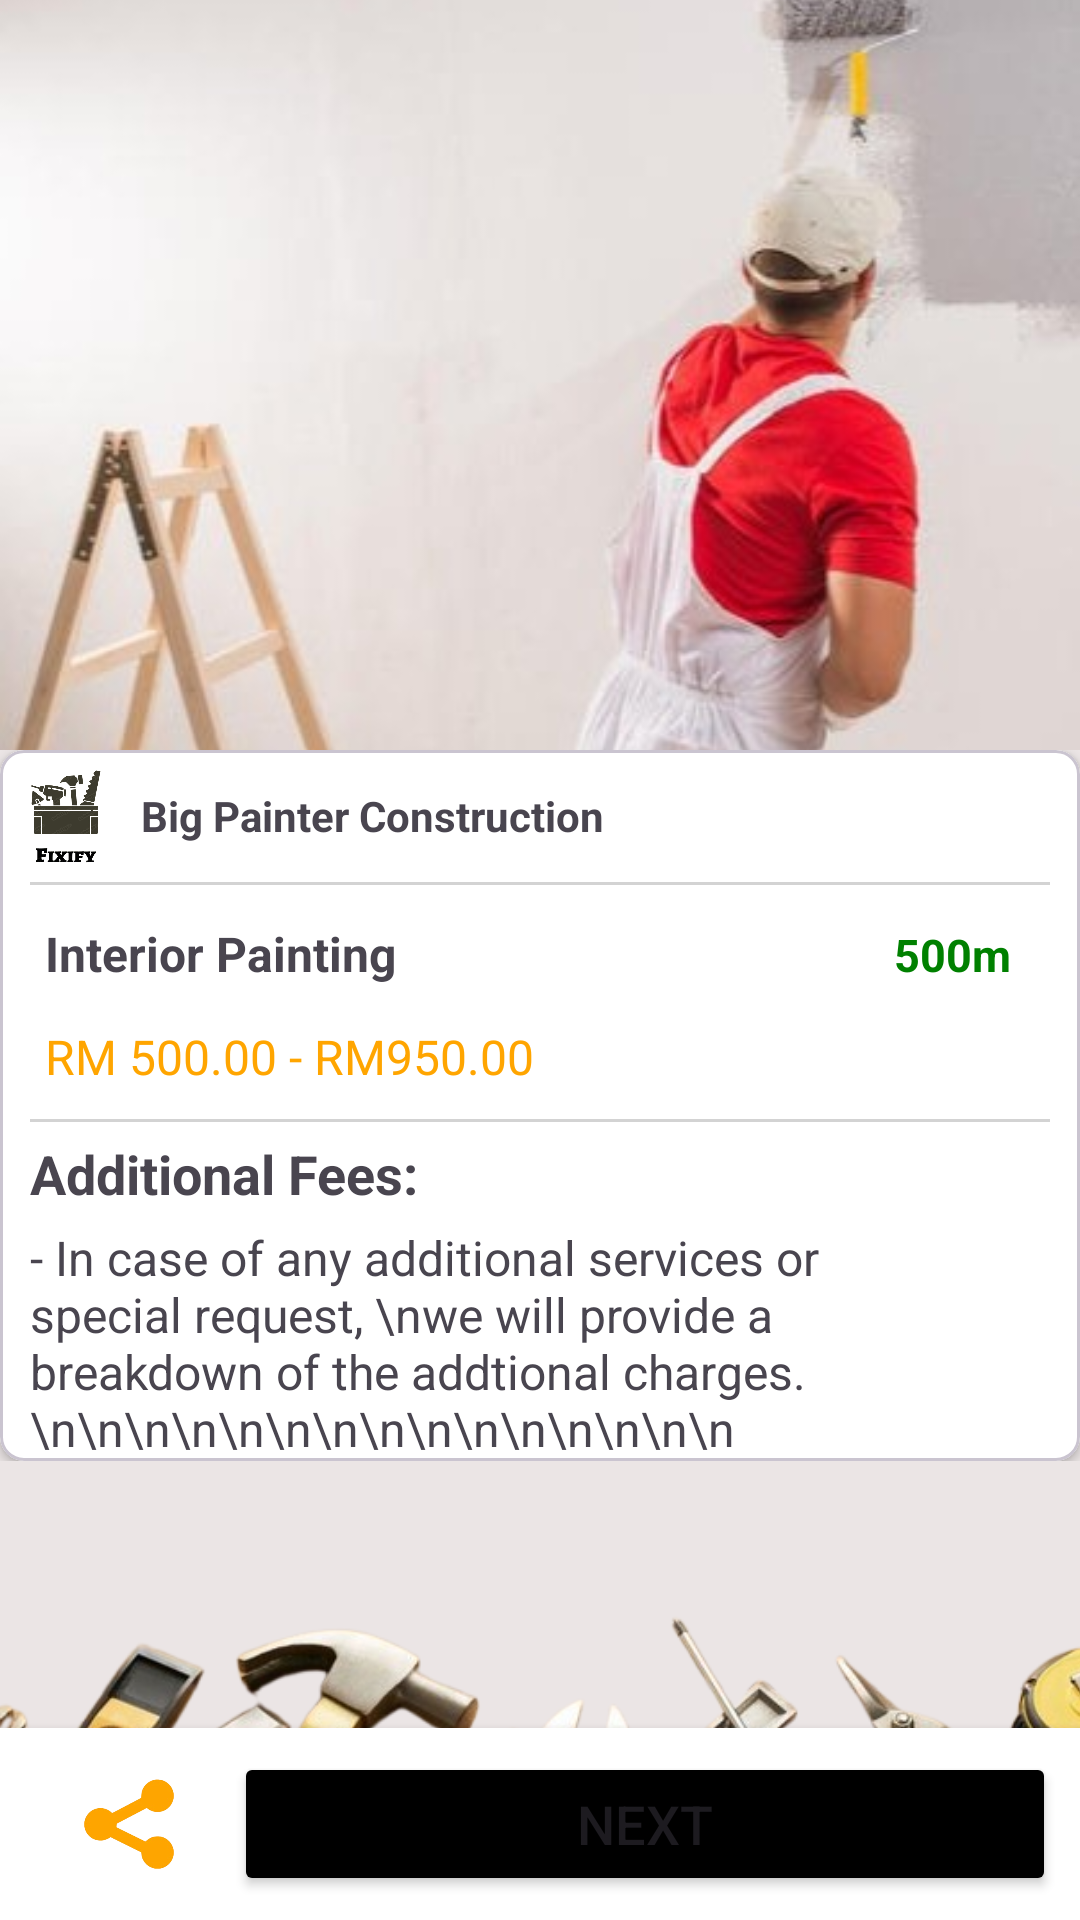

Icons on this 1080x1920 Android screen, each with its box as (x1, y1, x2, y2):
share: (84, 1779, 174, 1869)
